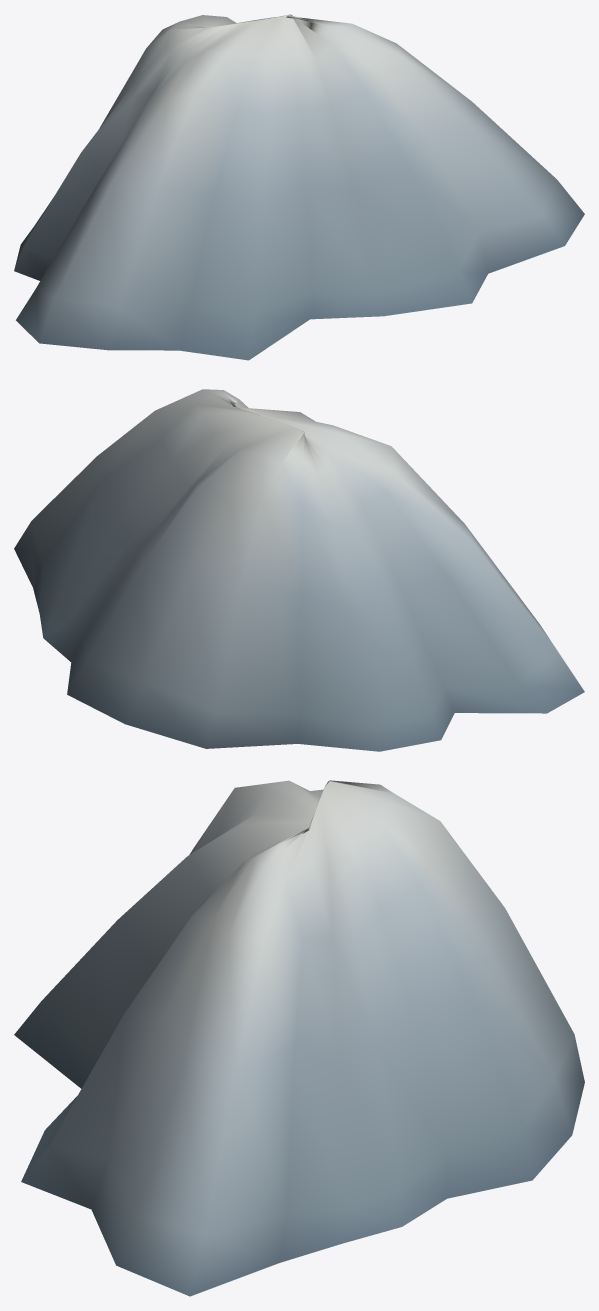
The model's file is wilderness_landmark.glb.
The picture shows the model from 3 angles, top to bottom: view 1: azimuth 30°, elevation 25°; view 2: azimuth 150°, elevation 25°; view 3: azimuth 270°, elevation 25°; orthographic projection. The views are drawn at different scales.
Visible parts, largest first — view 1: WildernessLandmark; view 2: WildernessLandmark; view 3: WildernessLandmark.
Part boxes in pixels (left/top/right/bottom): WildernessLandmark: left=14, top=14, right=584, bottom=360; WildernessLandmark: left=14, top=389, right=584, bottom=751; WildernessLandmark: left=14, top=780, right=584, bottom=1296.
Bounding box in the file's own units: 14.04 × 5.64 × 9.61.
